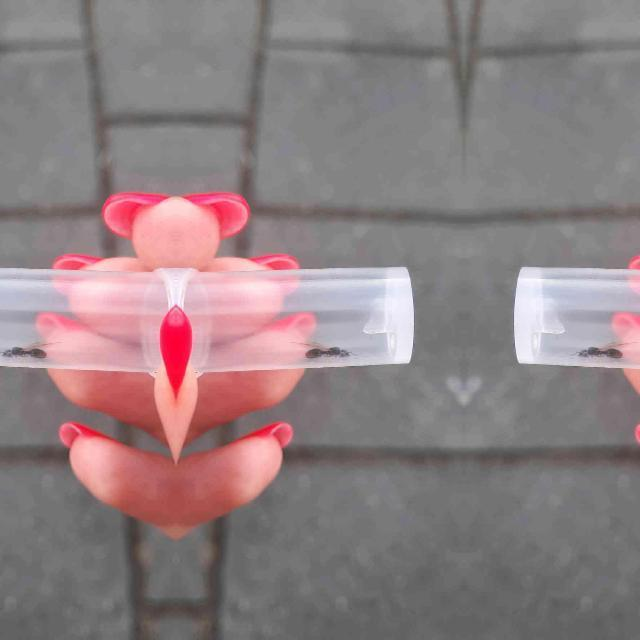Tetramorium: (0, 336, 48, 362), (302, 338, 351, 362), (576, 338, 624, 362)
